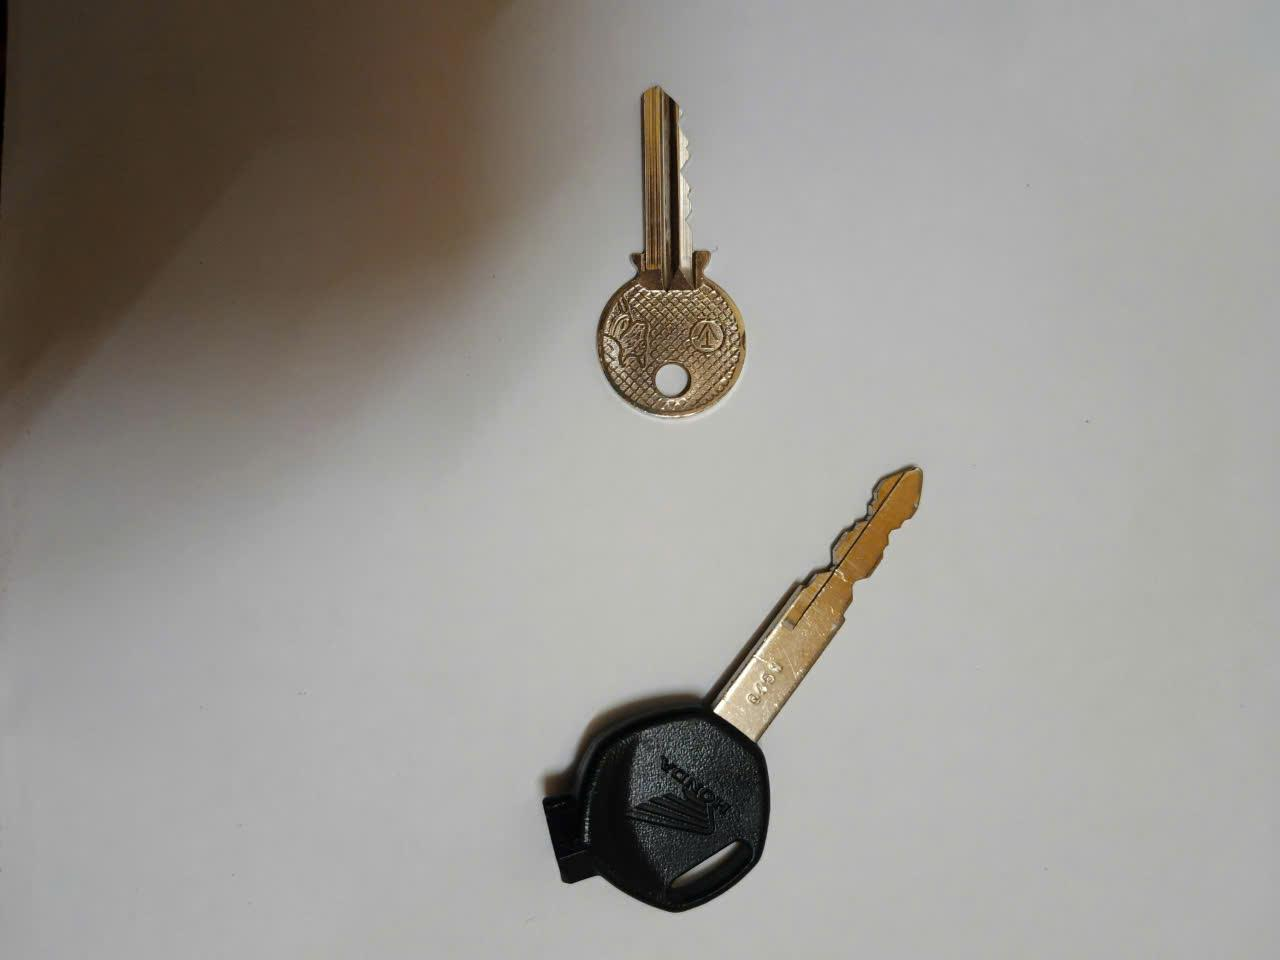Vo co: (536, 467, 928, 913), (592, 83, 754, 425)
